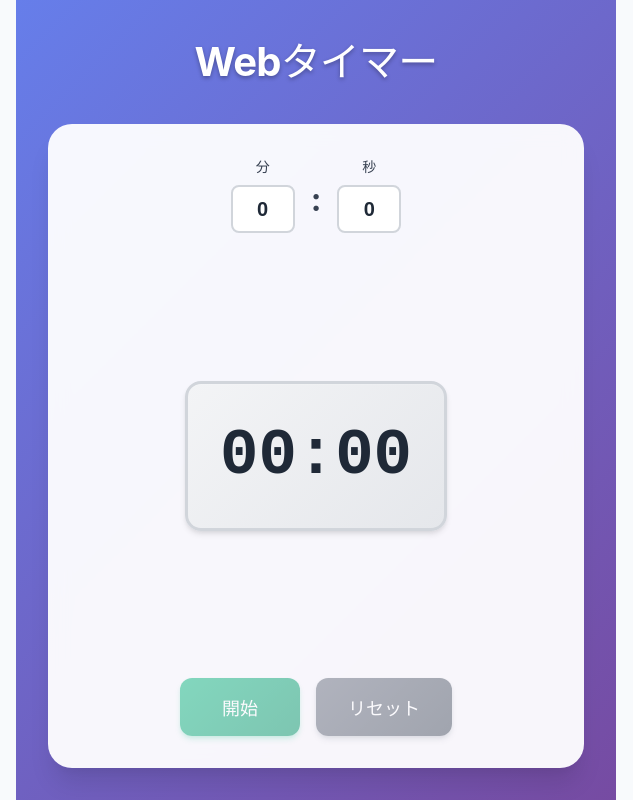
Test: App Integration Tests › 基本的なレンダリング › 時間設定が動作する
The width and height of the screenshot is (633, 800).
Type "5" into the field named "分を入力". click: (263, 209)
box: [231,185,295,233]
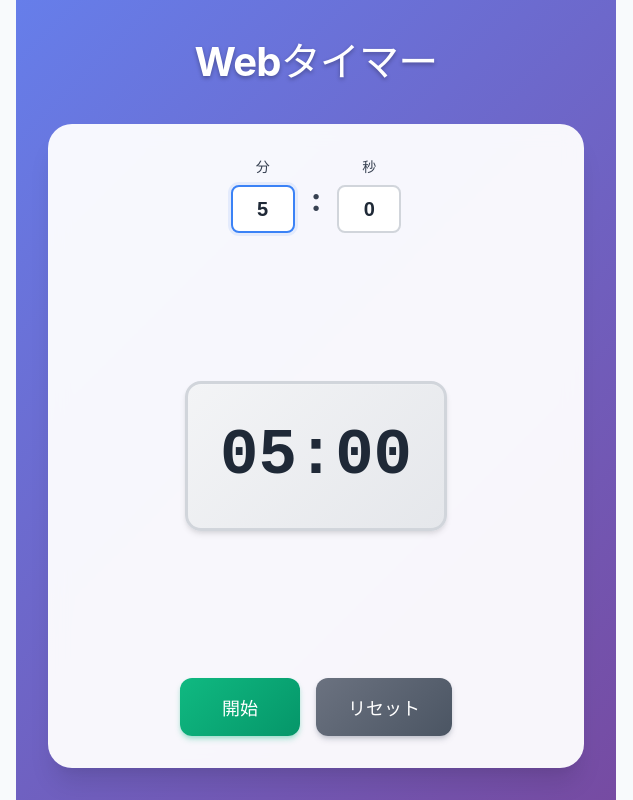
Type "30" into the field named "秒を入力". click: (369, 209)
box: [337,185,401,233]
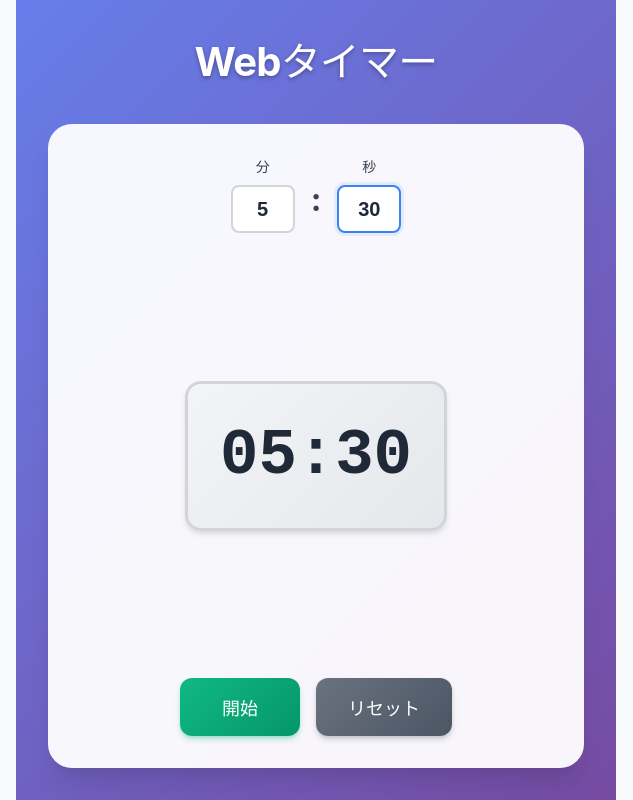
Expected: the text "05:30" is shown, [185,380,447,530]
